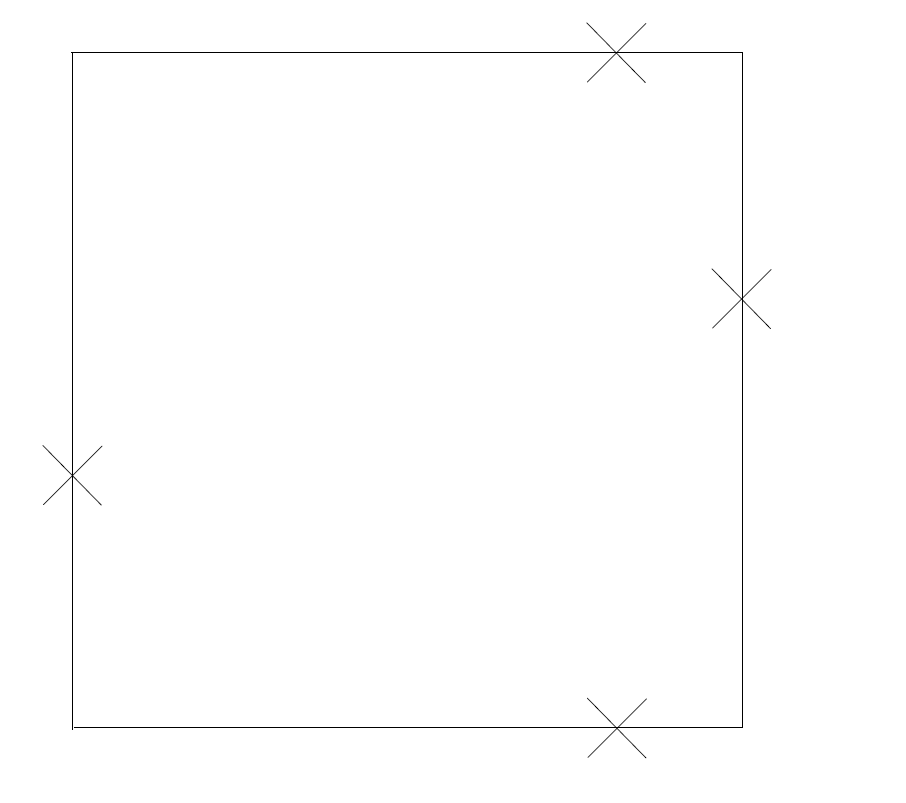FRGNP: (572, 11, 659, 93), (31, 436, 120, 515), (579, 686, 661, 771), (703, 258, 786, 341)
